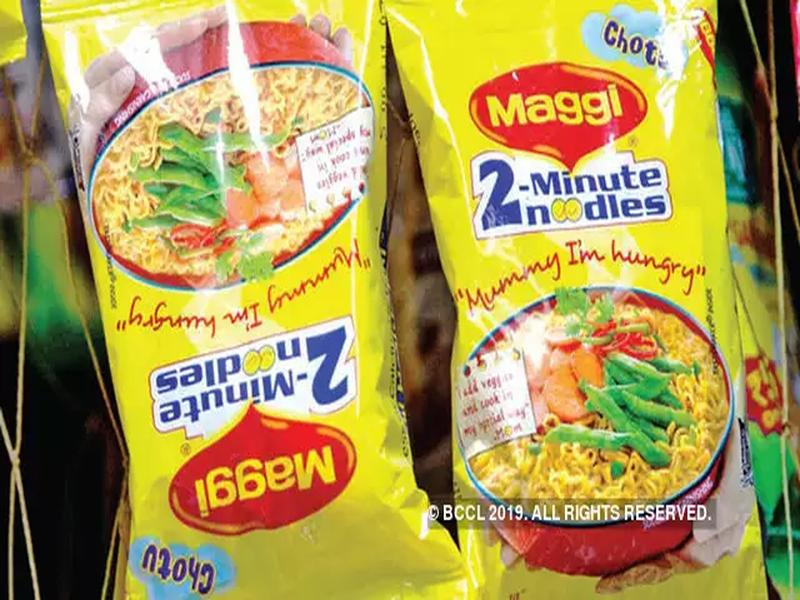maggi-small: (42, 12, 463, 591), (391, 5, 800, 559)
